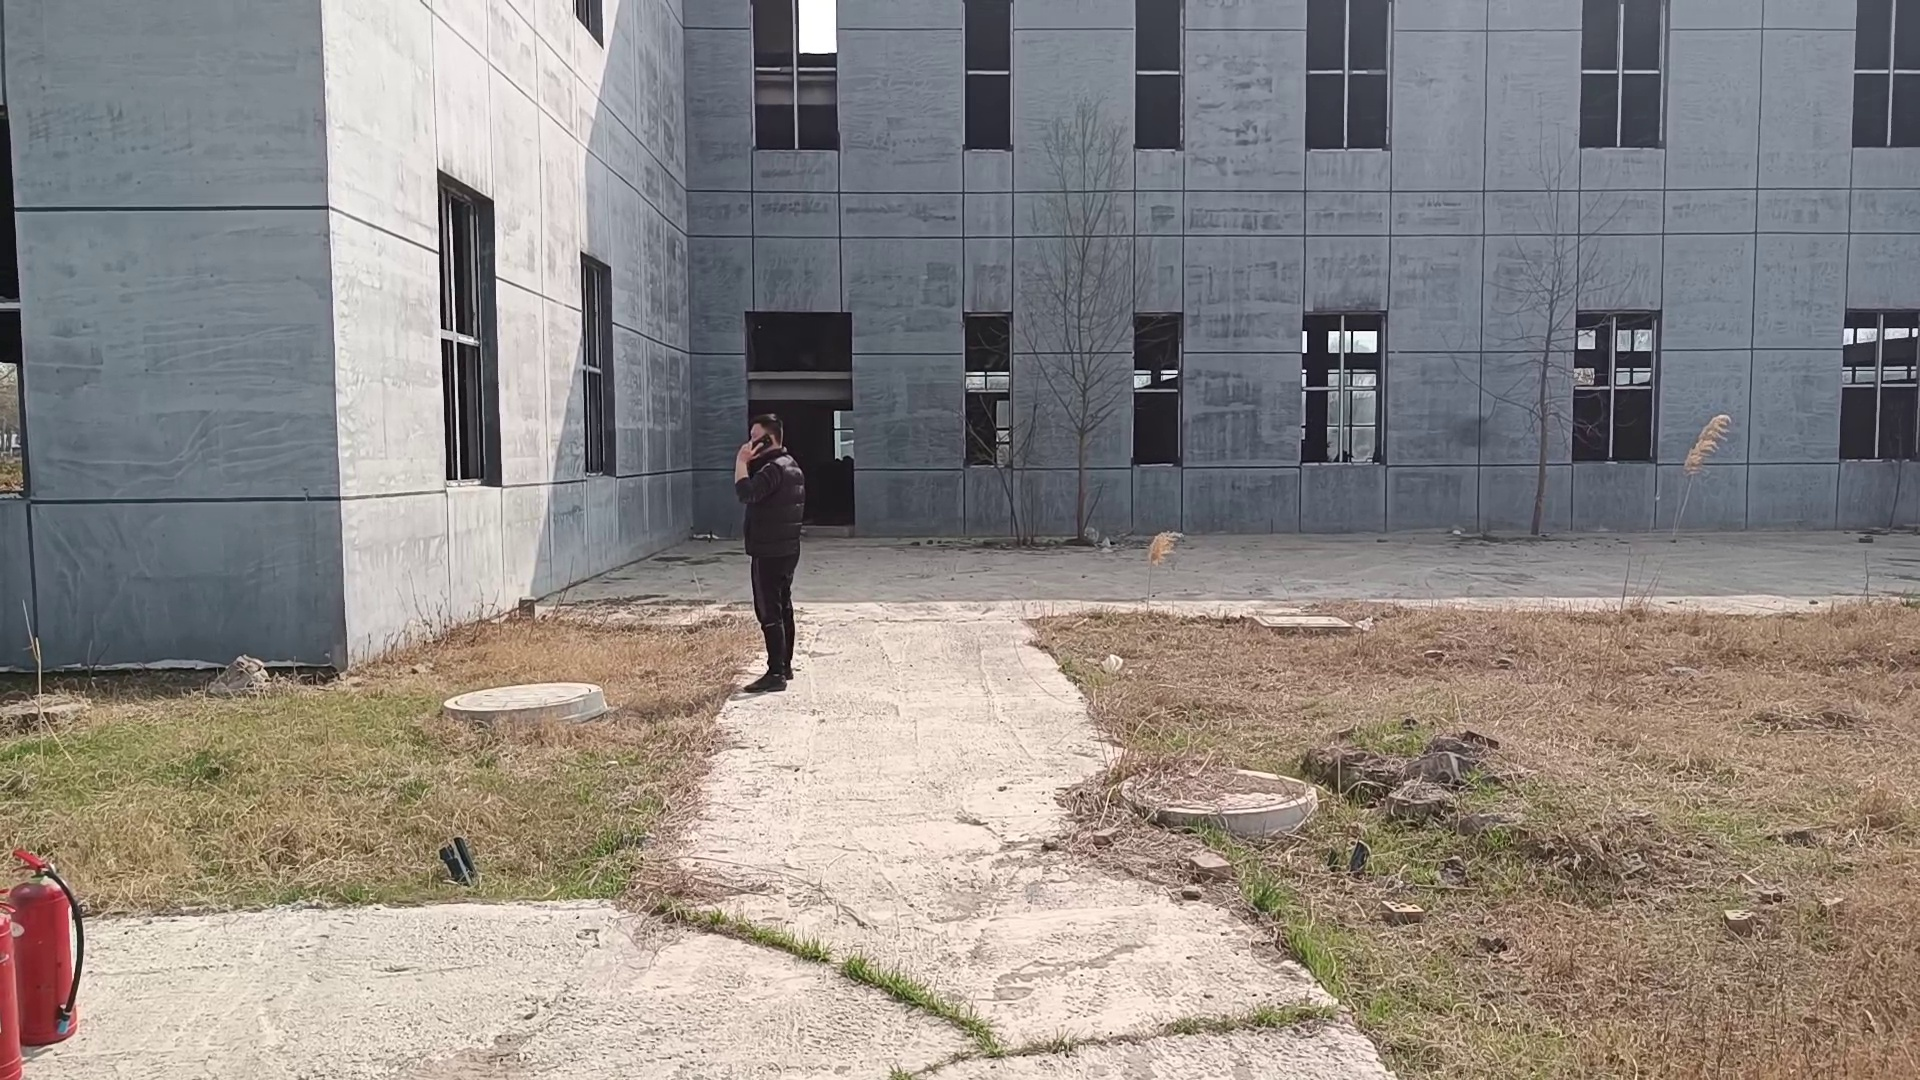phone: (738, 415, 785, 462)
